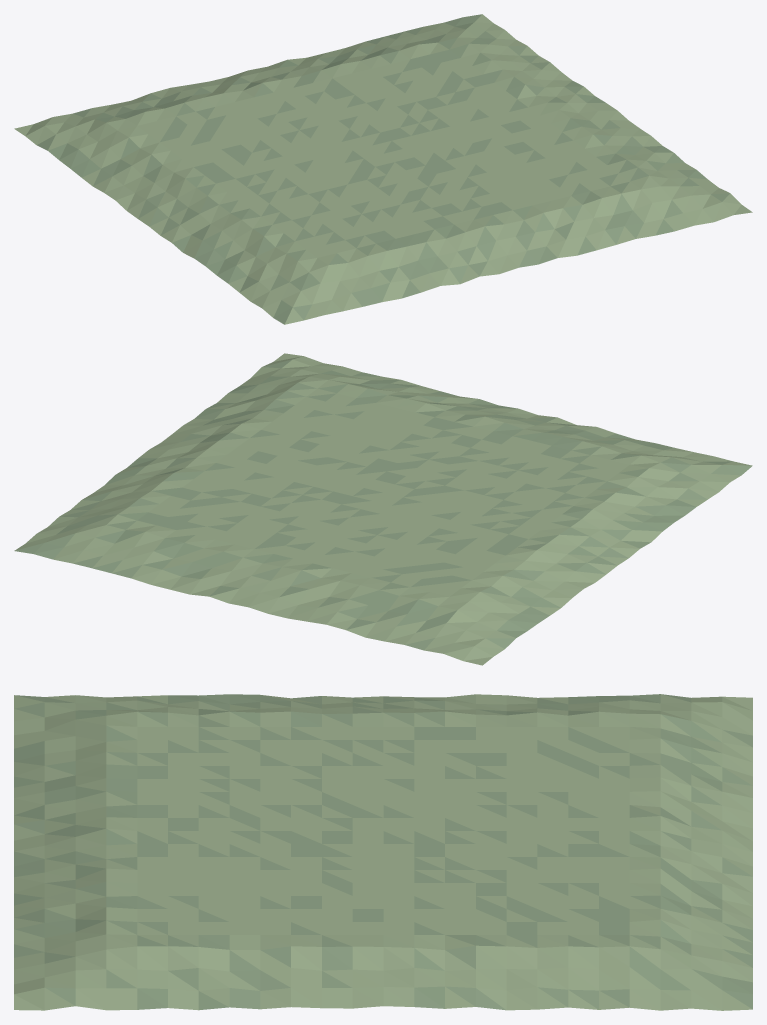
Rendered from SM_Island.fbx.
3 views of the same model, one above another, from view 1: azimuth 30°, elevation 25°; view 2: azimuth 150°, elevation 25°; view 3: azimuth 270°, elevation 25° (orthographic). The views are drawn at different scales.
Visible parts, largest first — view 1: SM_Island; view 2: SM_Island; view 3: SM_Island.
Boxes of the visible parts, x1=… form: SM_Island: x1=14, y1=14, x2=752, y2=324; SM_Island: x1=14, y1=353, x2=752, y2=665; SM_Island: x1=14, y1=694, x2=752, y2=1010.
Size of the model in its own units: 34 by 34 by 1.33.
